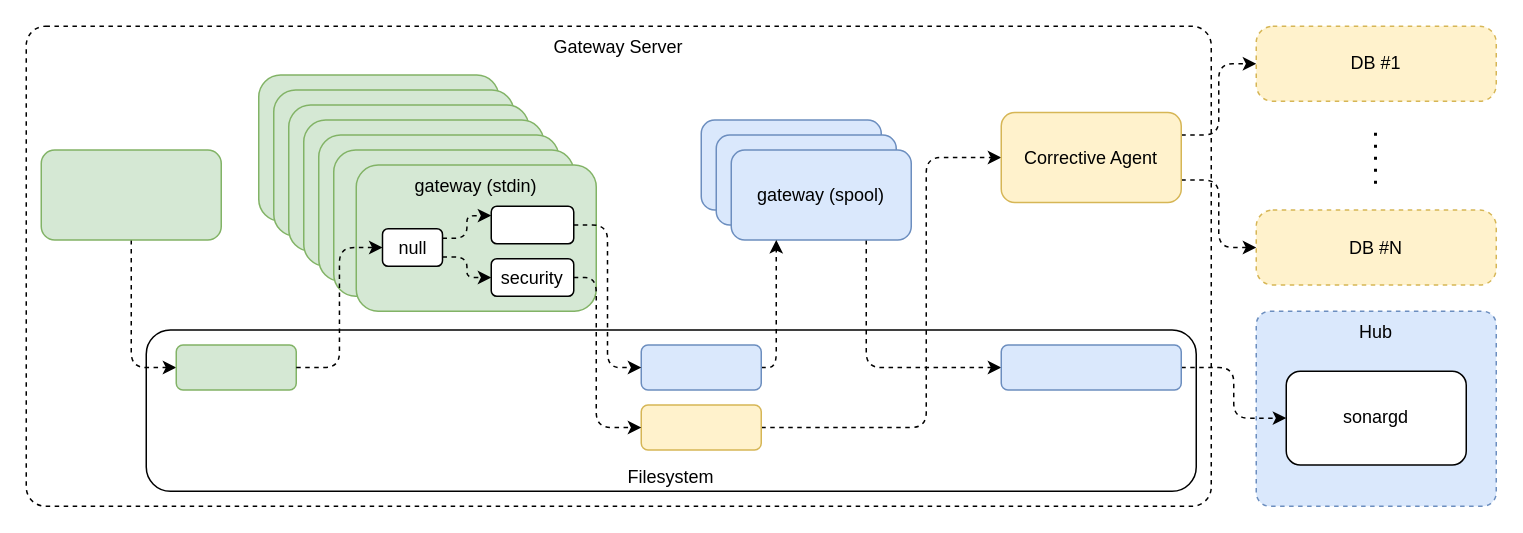
This 1523x533 diagram has some shape labels left out. The centre of each missing label's shape, as x and y in pixels:
audit: point 532,224
BSONs: point 700,367
logs: point 235,367
PARTs: point 1090,367
rsyslog: point 130,194
security events: point 700,427
